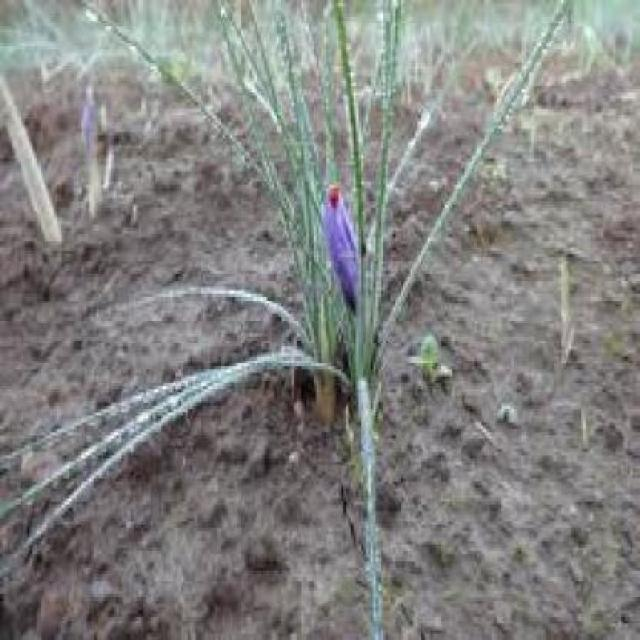Flower: (316, 181, 366, 319)
